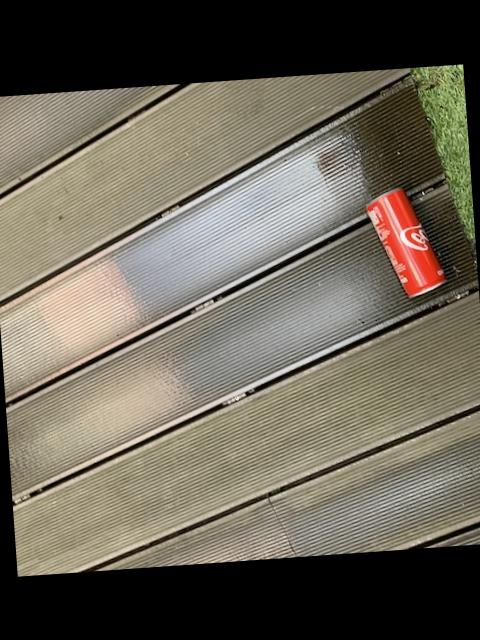metal: (366, 188, 444, 296)
